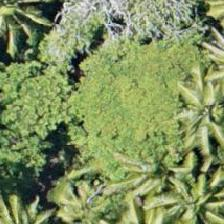coconut_tree: (162, 80, 223, 170), (158, 164, 223, 223)
